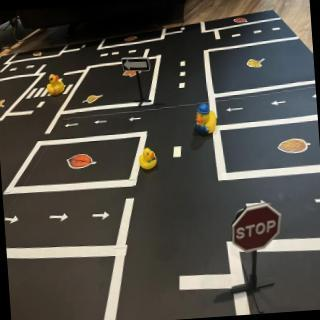duck_regular: (138, 147, 158, 174)
duck_specialty: (194, 102, 220, 140), (45, 73, 66, 97)
road_crosswalk: (24, 83, 77, 100)
road_oneway: (245, 199, 274, 211), (48, 211, 69, 226), (91, 210, 112, 224), (5, 214, 22, 227), (270, 98, 289, 108), (226, 106, 247, 114), (65, 121, 81, 130), (94, 118, 109, 126), (129, 116, 143, 124), (311, 90, 317, 104)
sign_oneway_left: (122, 55, 153, 75)
sign_stop: (230, 204, 284, 254)
